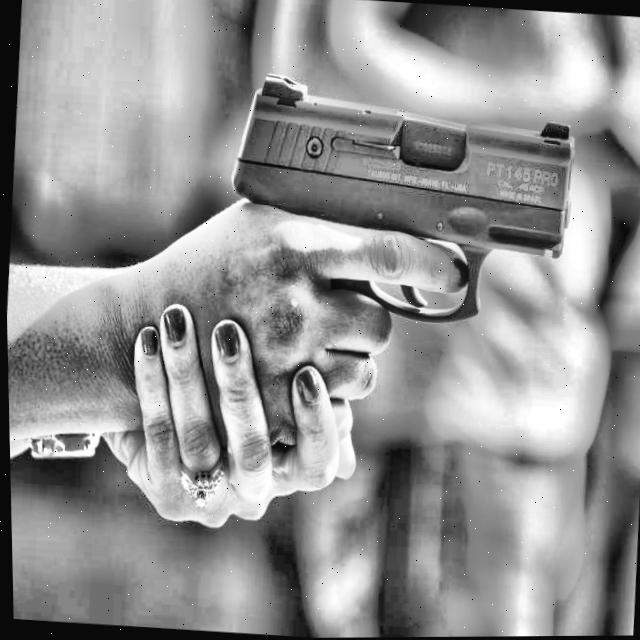pistol: (187, 25, 604, 412)
